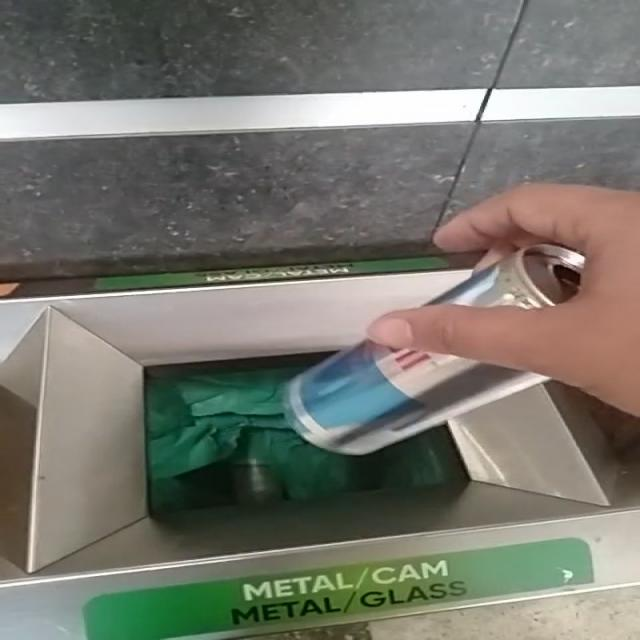metal: (284, 341, 549, 456), (433, 246, 585, 309)
